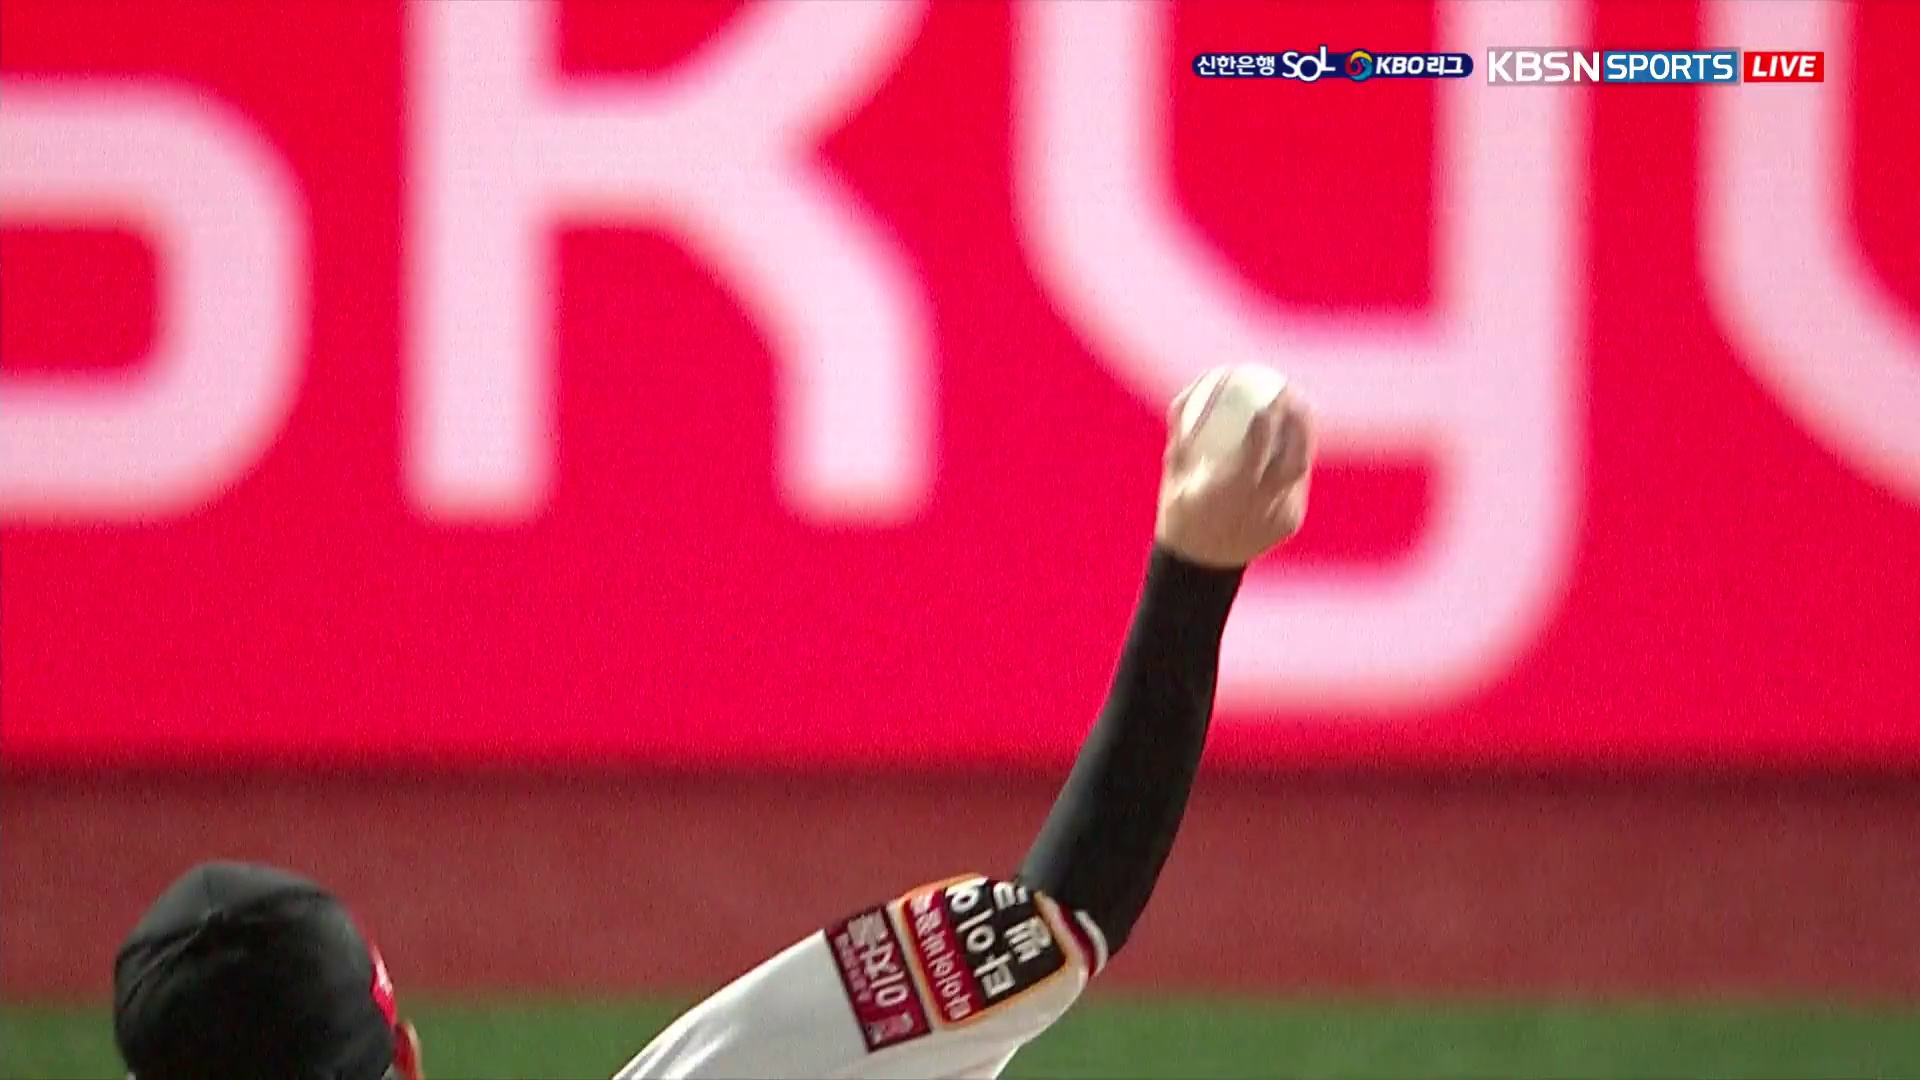zoomin_hand: (990, 355, 1323, 1001)
